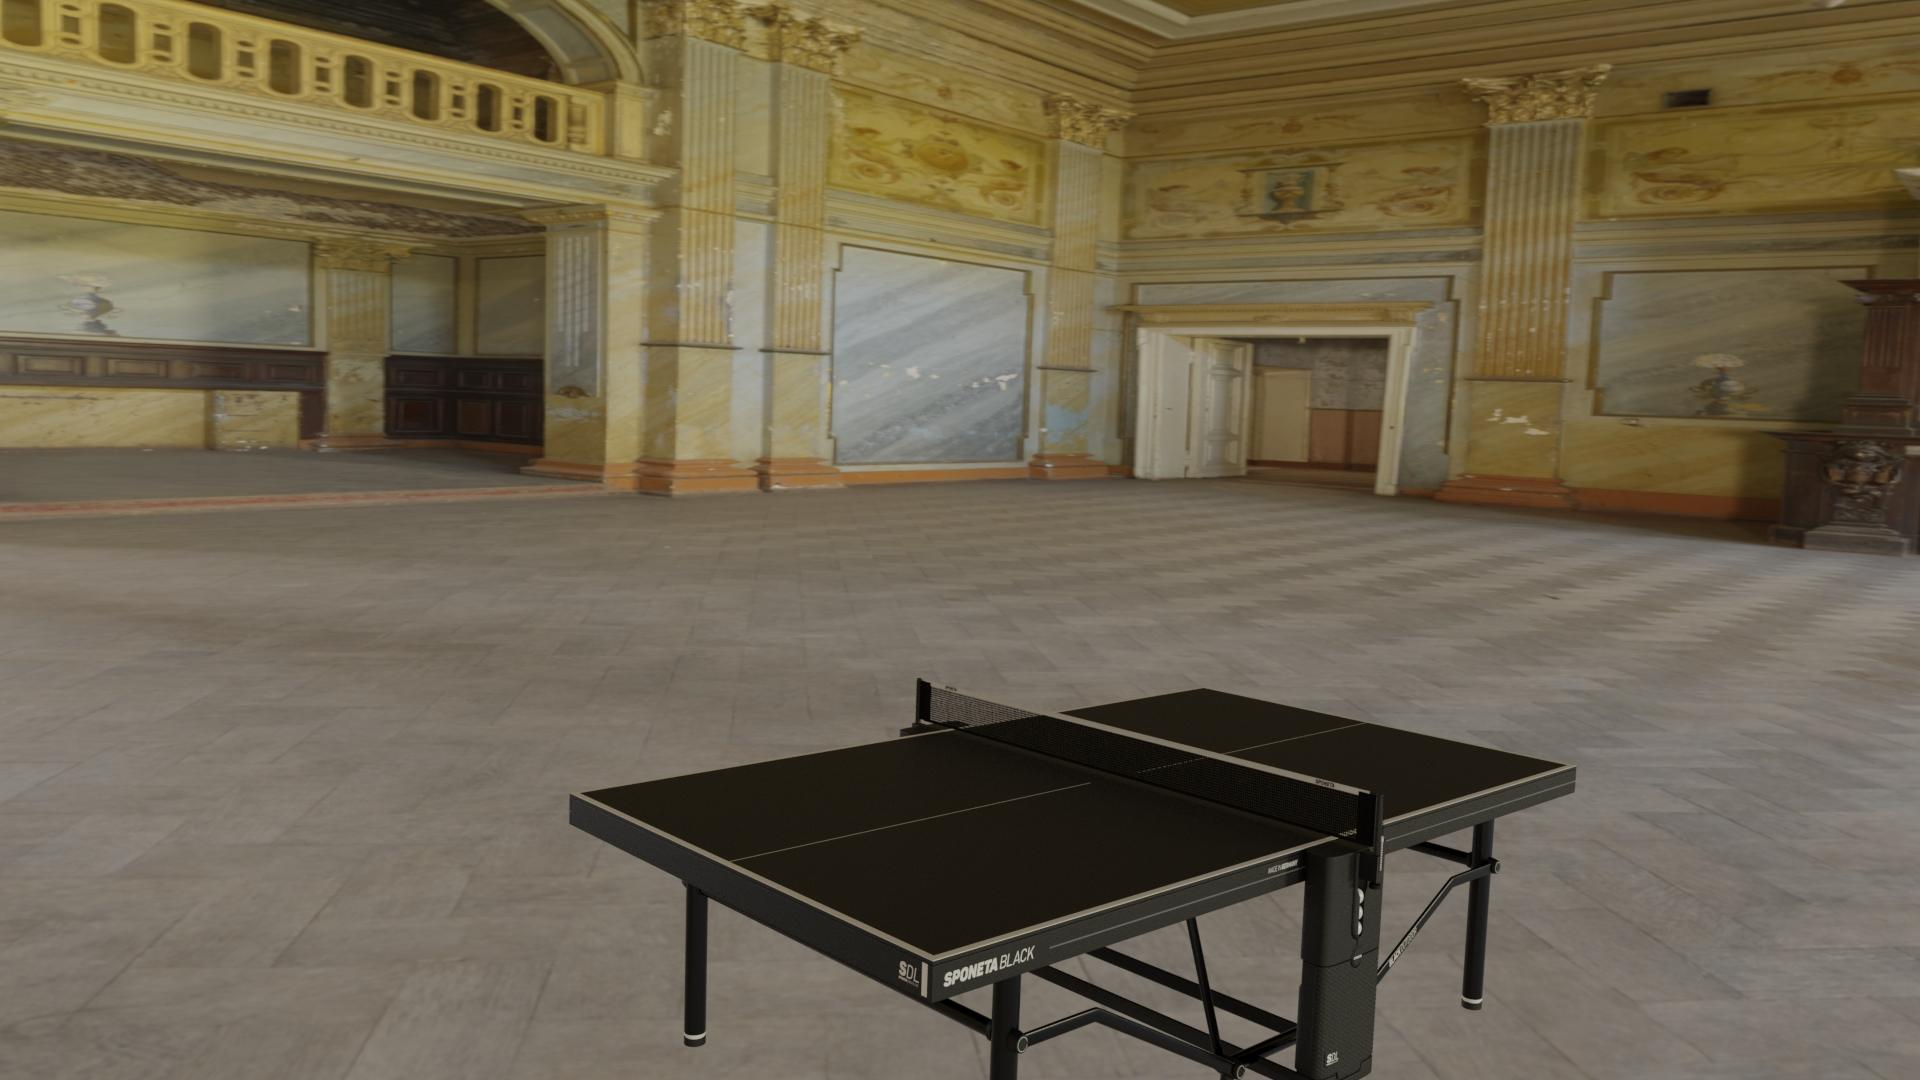table: (579, 688, 1568, 956)
